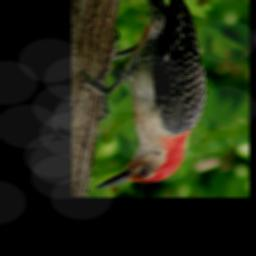Woodpecker: (76, 0, 208, 189)
